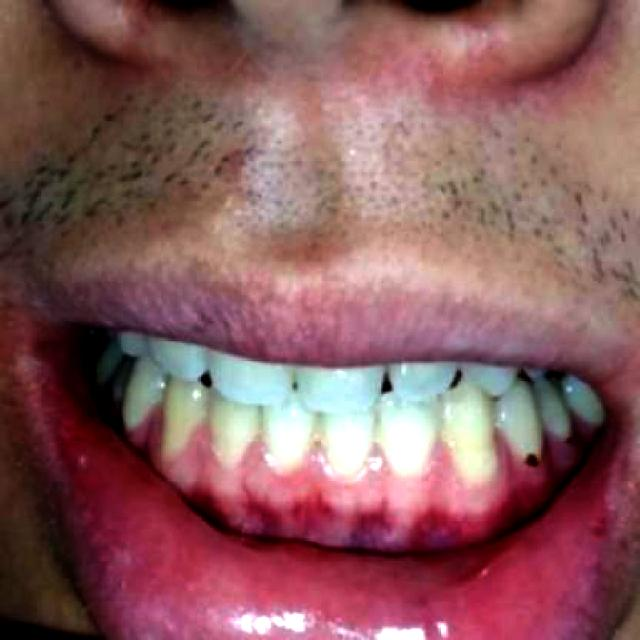Plaque: (500, 433, 549, 466), (564, 433, 576, 446)
